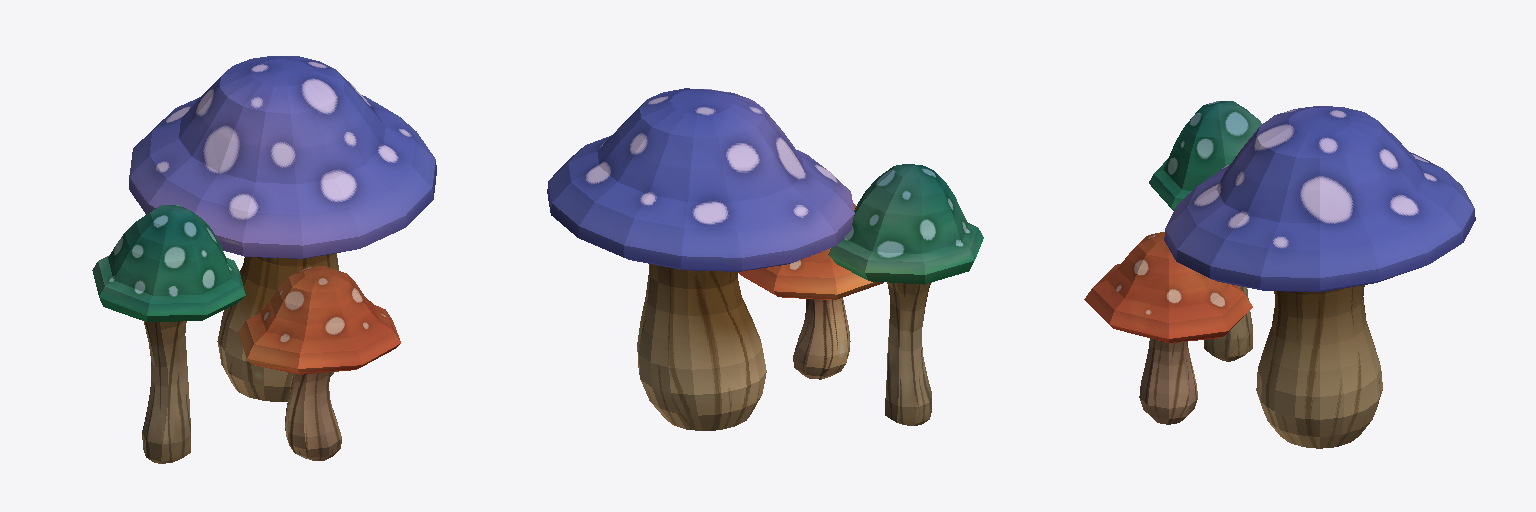
The picture shows the model from 3 angles: view 1: azimuth 30°, elevation 25°; view 2: azimuth 150°, elevation 25°; view 3: azimuth 270°, elevation 25°; orthographic projection.
Parts seen in each view (by area): view 1: Mushroom_Large, Mushroom_Thin, Mushroom_Small; view 2: Mushroom_Large, Mushroom_Thin, Mushroom_Small; view 3: Mushroom_Large, Mushroom_Small, Mushroom_Thin.
Boxes of the visible parts, x1=… form: Mushroom_Large: x1=129, y1=56, x2=436, y2=401; Mushroom_Thin: x1=92, y1=205, x2=245, y2=463; Mushroom_Small: x1=238, y1=266, x2=400, y2=460; Mushroom_Large: x1=547, y1=88, x2=854, y2=430; Mushroom_Thin: x1=828, y1=164, x2=983, y2=425; Mushroom_Small: x1=738, y1=203, x2=883, y2=379; Mushroom_Large: x1=1164, y1=106, x2=1475, y2=448; Mushroom_Small: x1=1084, y1=232, x2=1252, y2=424; Mushroom_Thin: x1=1149, y1=101, x2=1261, y2=361.
Bounding box in the file's own units: 0.8881 × 0.7454 × 0.8276.
3 materials, 3 textured.